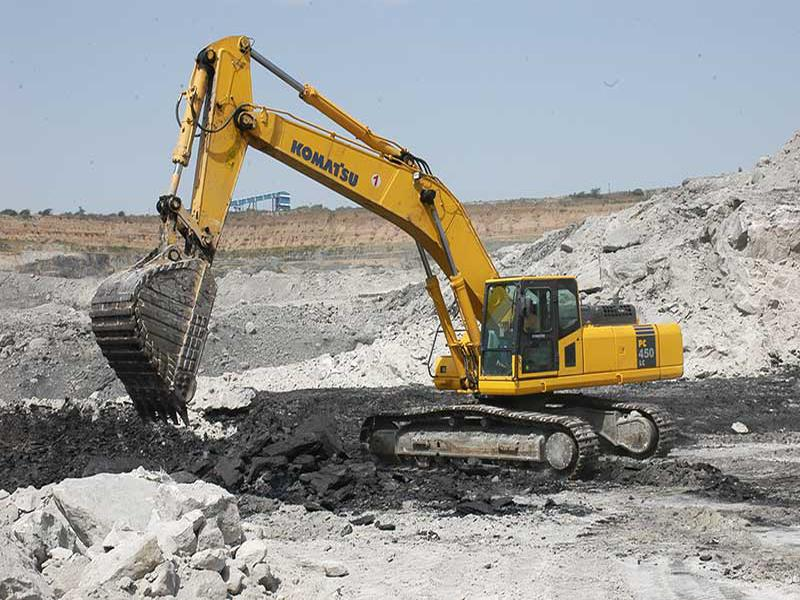shovel: (85, 28, 691, 489)
